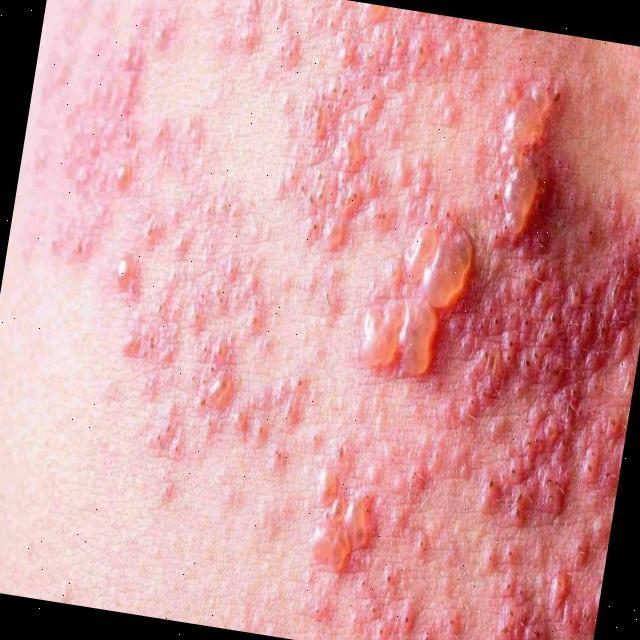Shingles: (59, 9, 629, 622)
